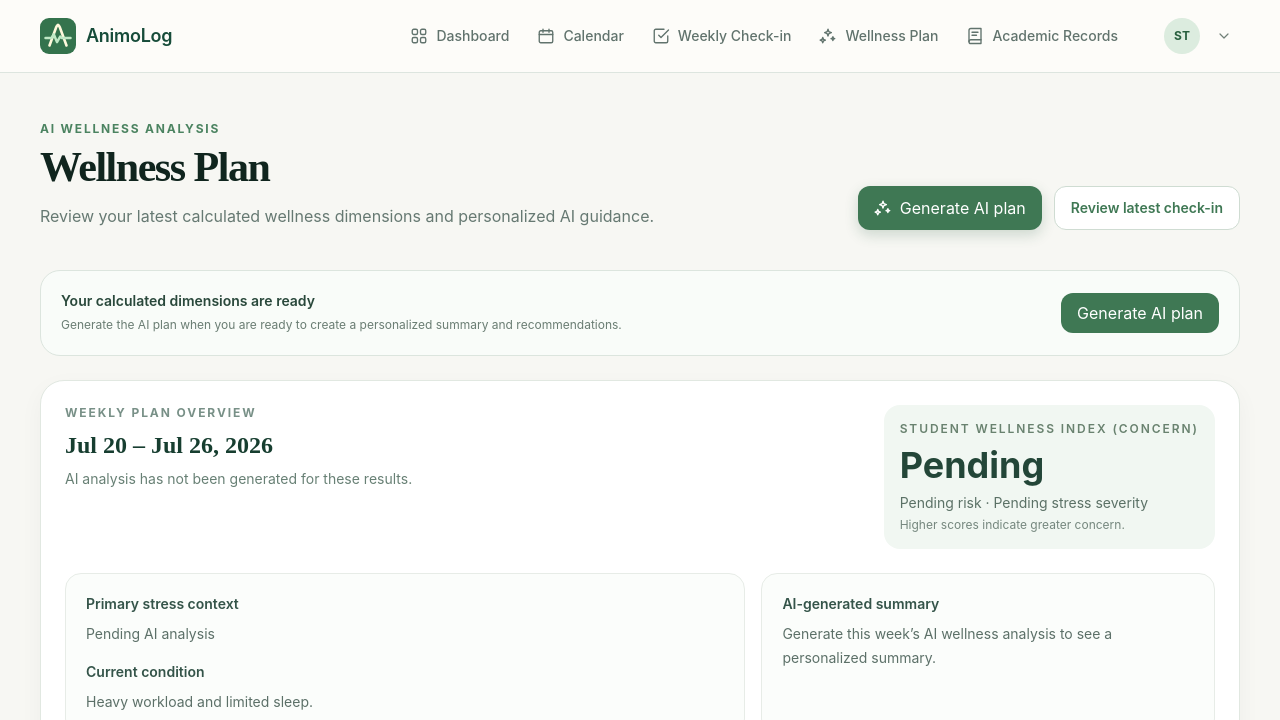
Scenario: Wellness Plan live data › generates a missing analysis only after the student clicks
The width and height of the screenshot is (1280, 720).
Click the button "Generate AI plan" next to "Review latest check-in". click: click(950, 208)
box: x1=858 y1=186 x2=1042 y2=230
(page scrolled)
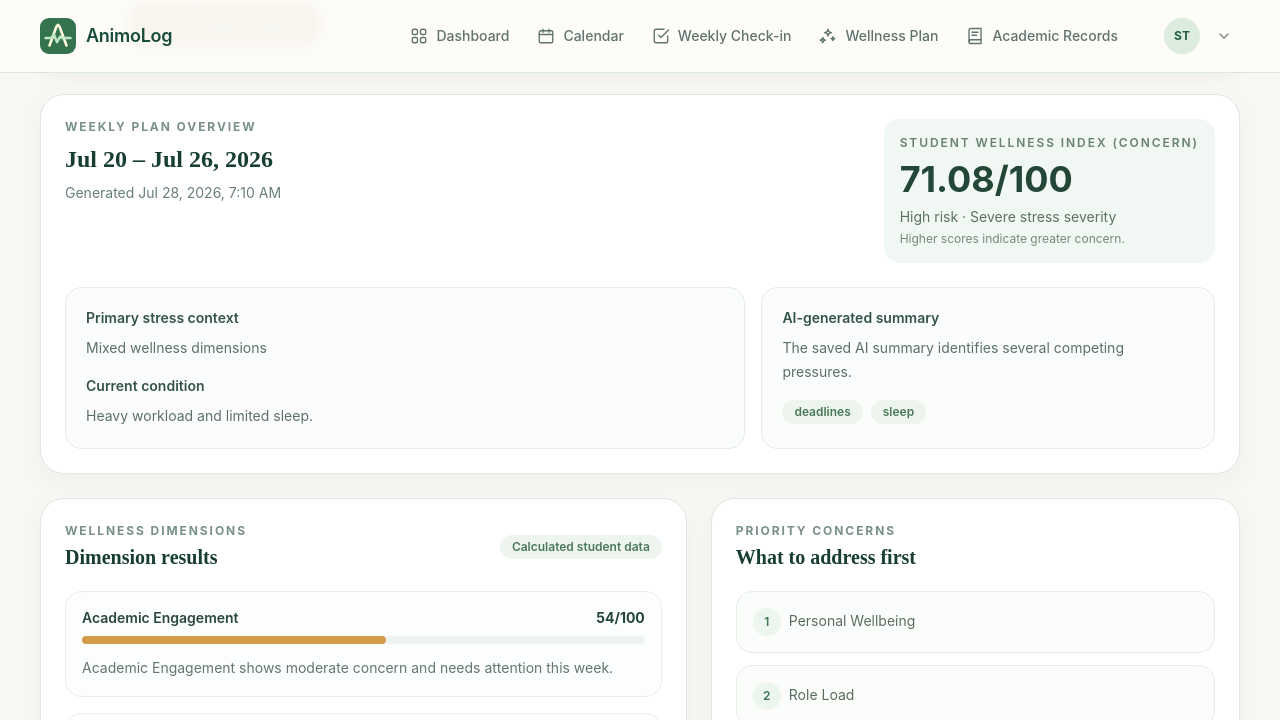
Result: the text "The saved AI summary identifies several competing pressures." is shown at x1=782 y1=339 x2=1124 y2=380
Result: the button "Generate AI plan" is gone
